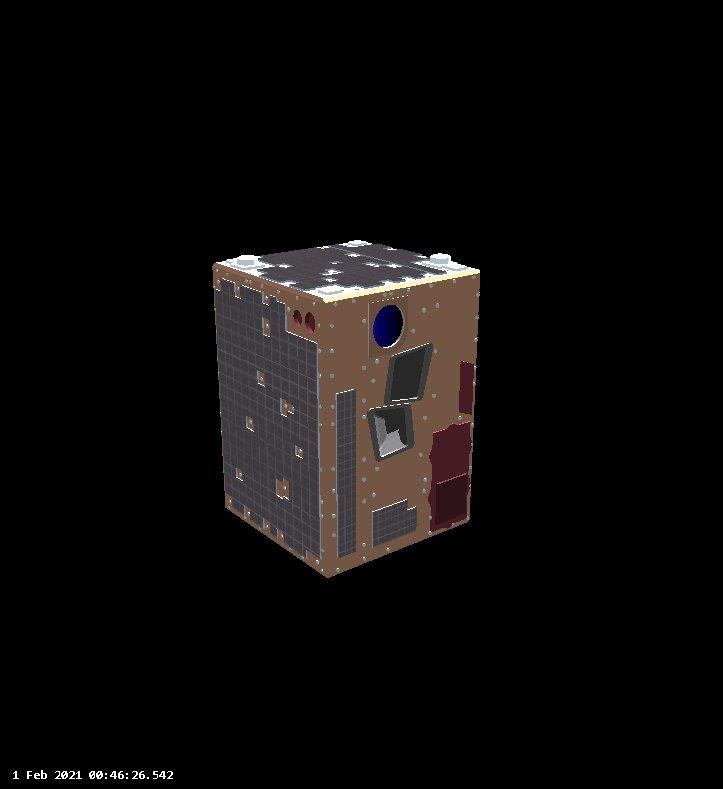body: (209, 235, 477, 581)
solar: (213, 276, 322, 561), (334, 386, 358, 560), (369, 497, 419, 550)
